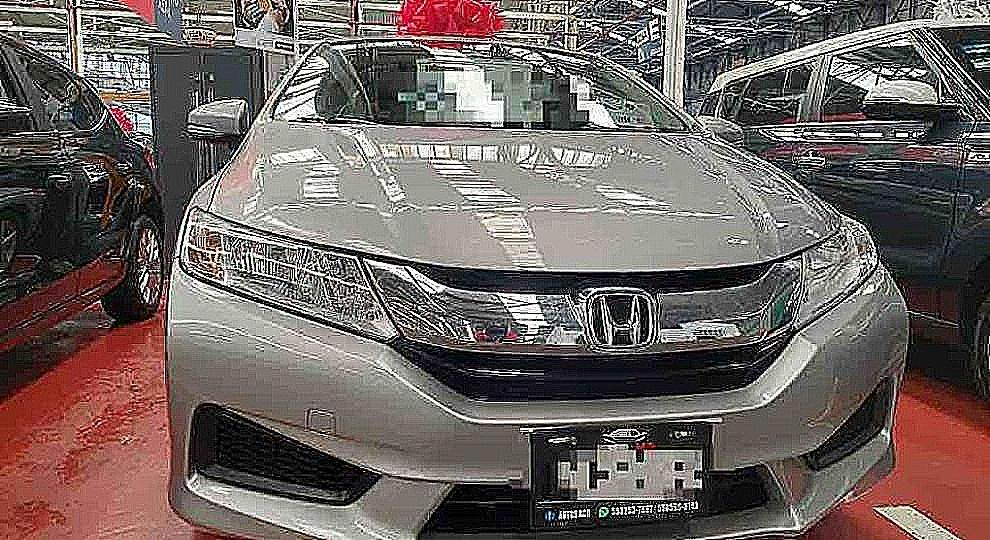Car hood: (208, 119, 843, 279)
Driver-s door - -F-R-: (793, 8, 974, 341)
Front bumper: (160, 273, 914, 540)
Headlight - -L-: (791, 213, 878, 346)
Headlight - -R-: (177, 205, 400, 349)
Passenger-s door - -R-L-: (13, 29, 136, 313)
Side bumper - -L-: (0, 257, 131, 376)
Side mirror - -R-: (864, 78, 966, 132), (183, 96, 256, 153)
